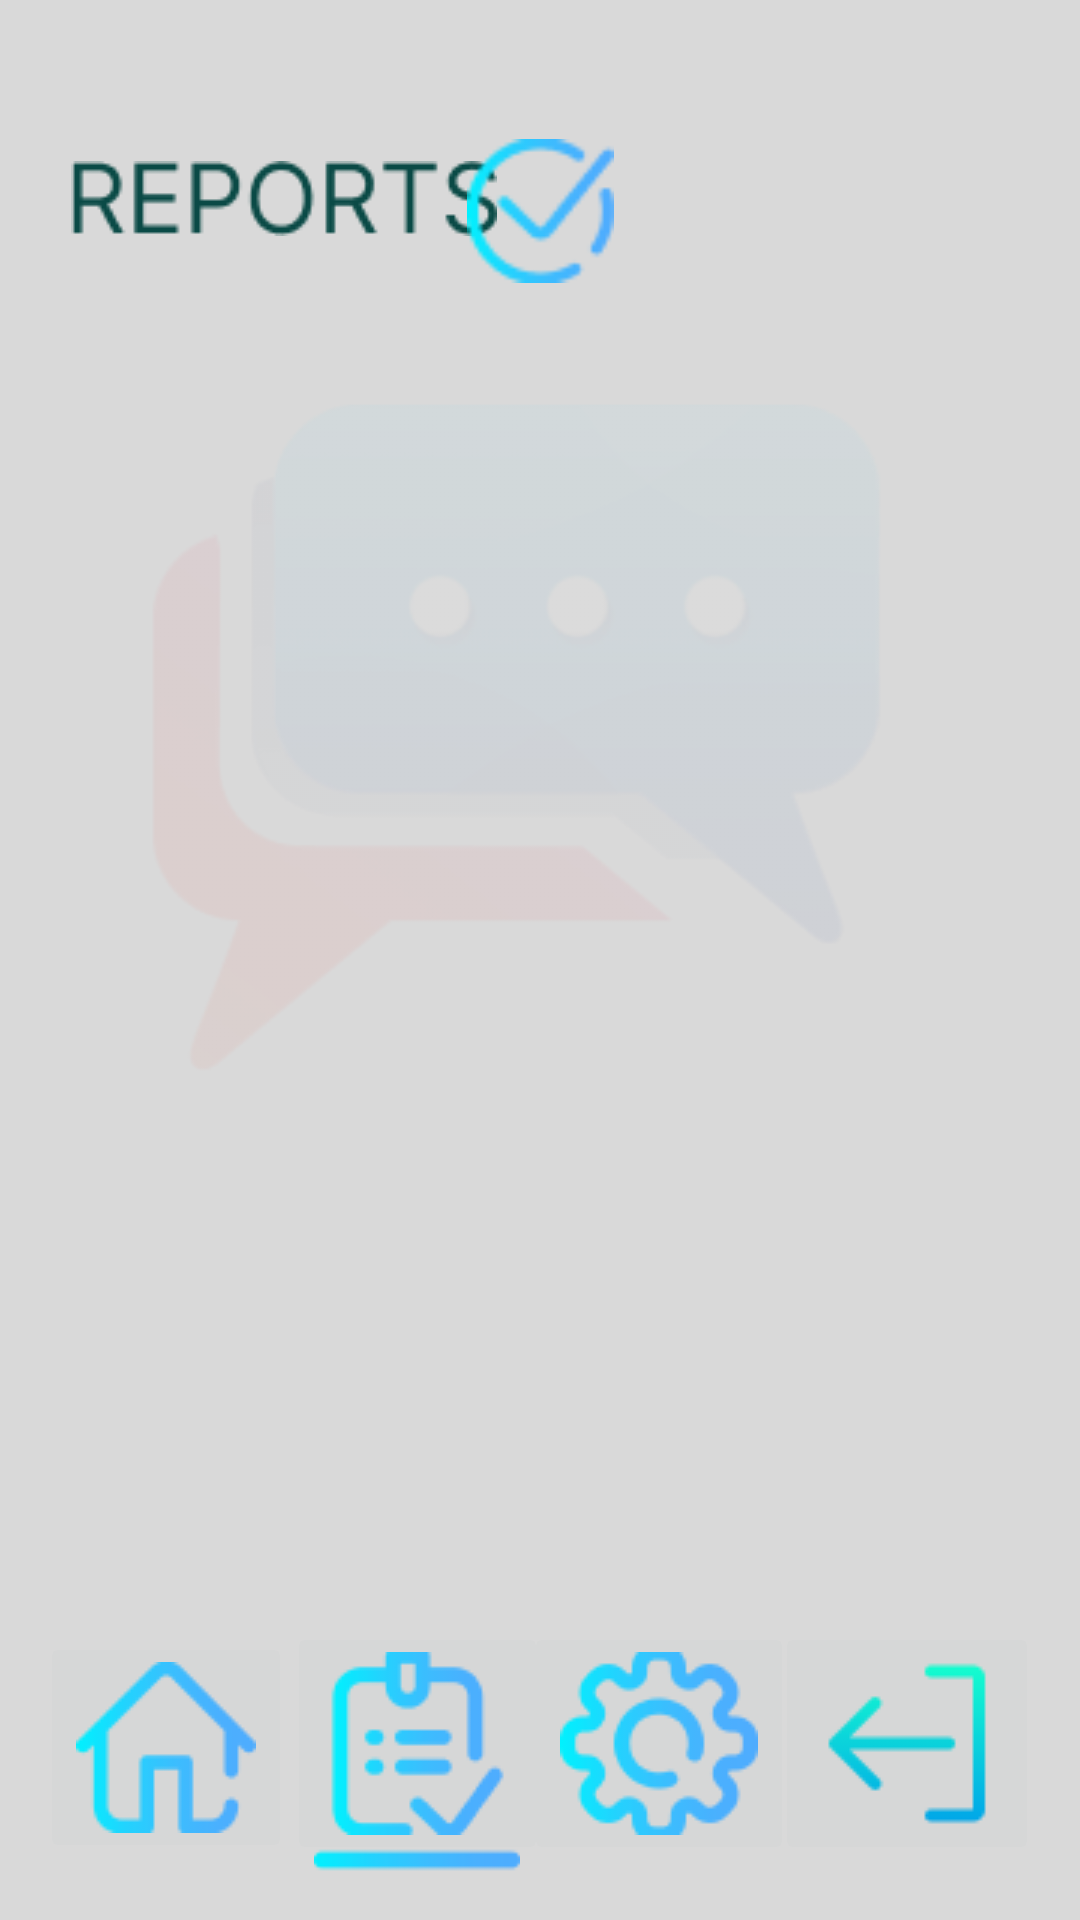

Icons on this 1080 × 1920 Android screen, each with the point to tap as [x,y]:
certinho: [540,211]
iconeconfiguracao: [659,1743]
iconehome: [166,1747]
iconesair: [907,1743]
